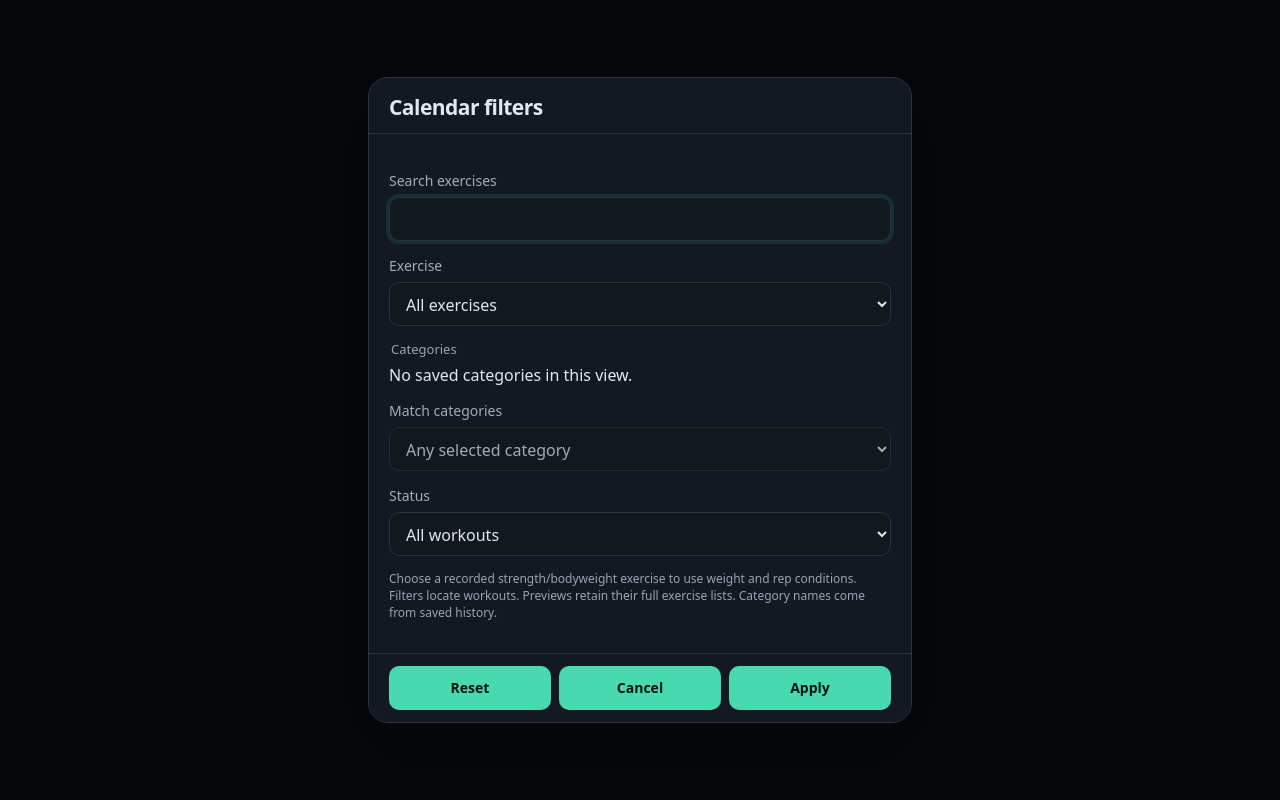
Test: uses the recorded weight unit for the selected exercise
The width and height of the screenshot is (1280, 800).
Select "Bench" in the dropdown named "Calendar exercise". click: [640, 304]
box: 389,282 -> 891,326
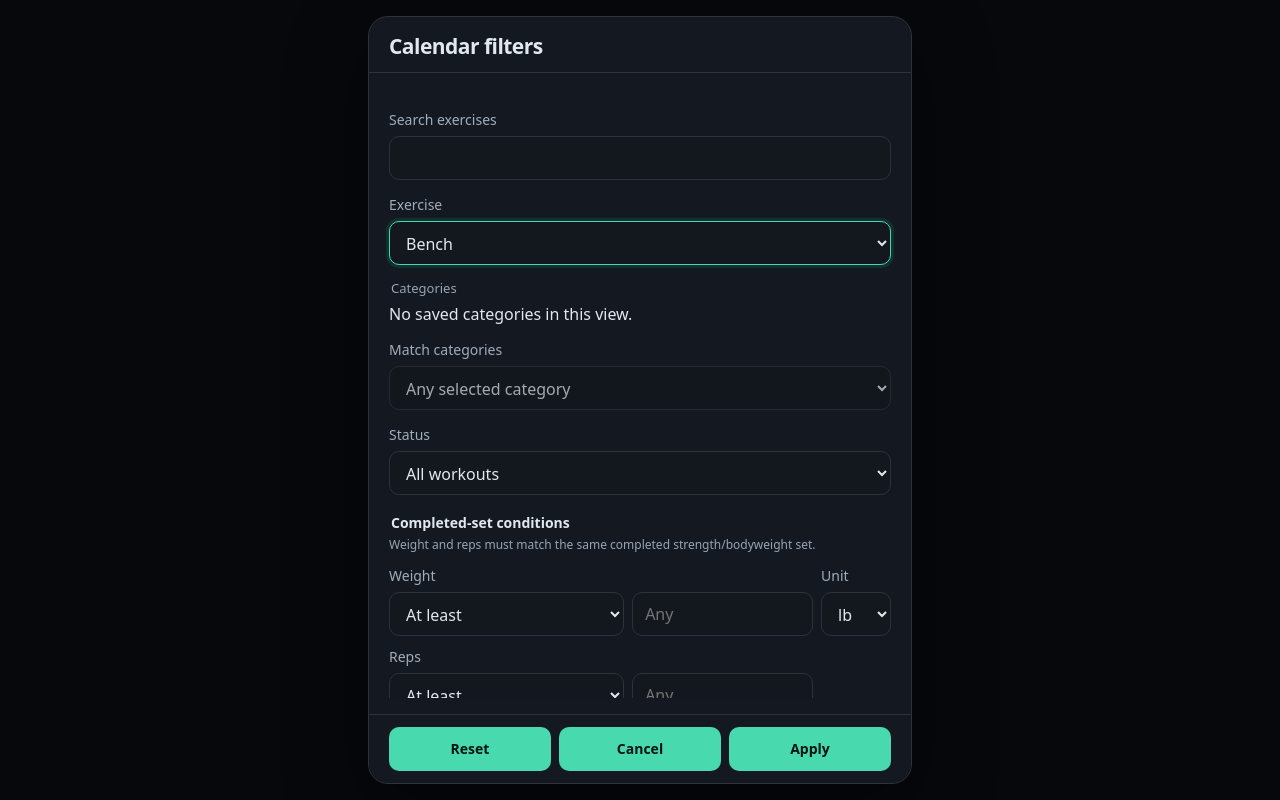
Now the dropdown named "Weight unit" shows "lb", box 821,592 -> 891,636
